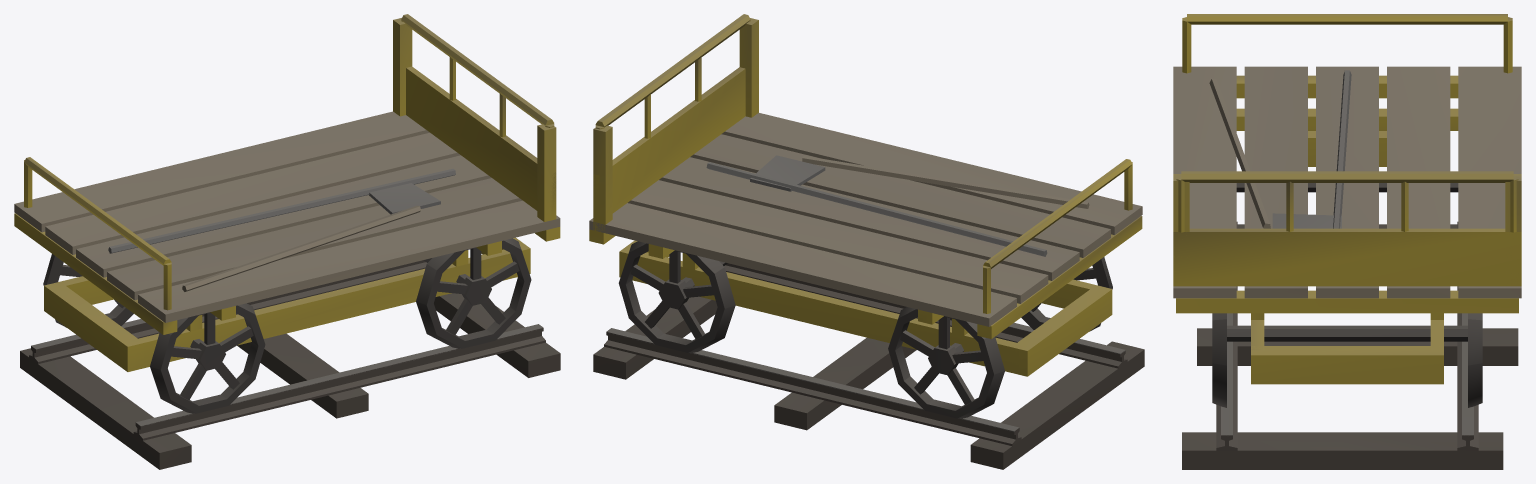
The model's file is platelayer_trolley_long.glb.
3 views of the same model, side by side, from view 1: azimuth 30°, elevation 25°; view 2: azimuth 150°, elevation 25°; view 3: azimuth 270°, elevation 25° (orthographic). The views are drawn at different scales.
Parts seen in each view (by area): view 1: platelayer_trolley_long; view 2: platelayer_trolley_long; view 3: platelayer_trolley_long.
Part boxes in pixels (x1=…): platelayer_trolley_long: x1=14, y1=14, x2=560, y2=469; platelayer_trolley_long: x1=589, y1=14, x2=1144, y2=469; platelayer_trolley_long: x1=1173, y1=14, x2=1521, y2=469.
Size of the model in its own units: 2 by 1.2 by 1.3.
